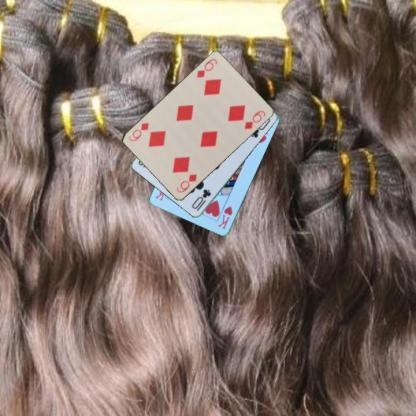10c: (189, 186, 213, 212)
6d: (194, 57, 219, 79), (174, 172, 198, 194)
Kh: (216, 204, 234, 231)
